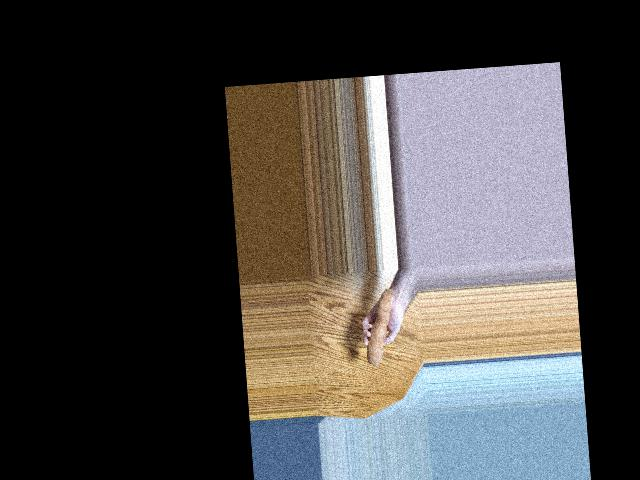sweet_potato: (360, 292, 394, 362)
